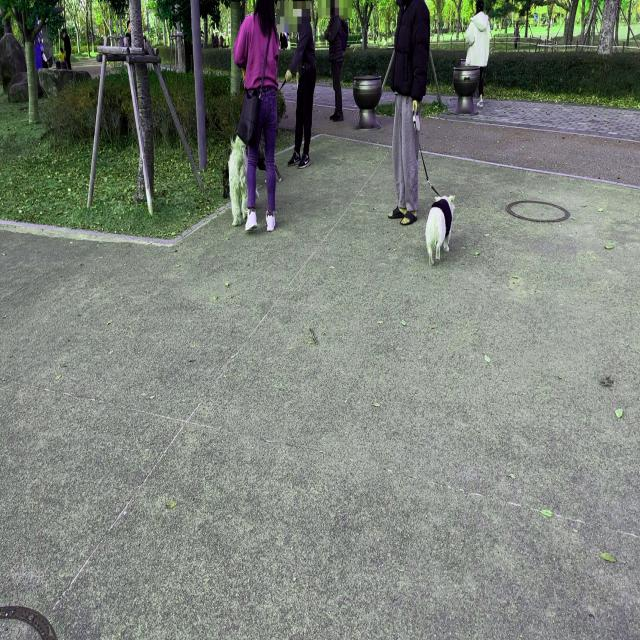Leashed_Dog: (221, 50, 308, 201), (396, 73, 456, 268), (228, 80, 277, 228)
